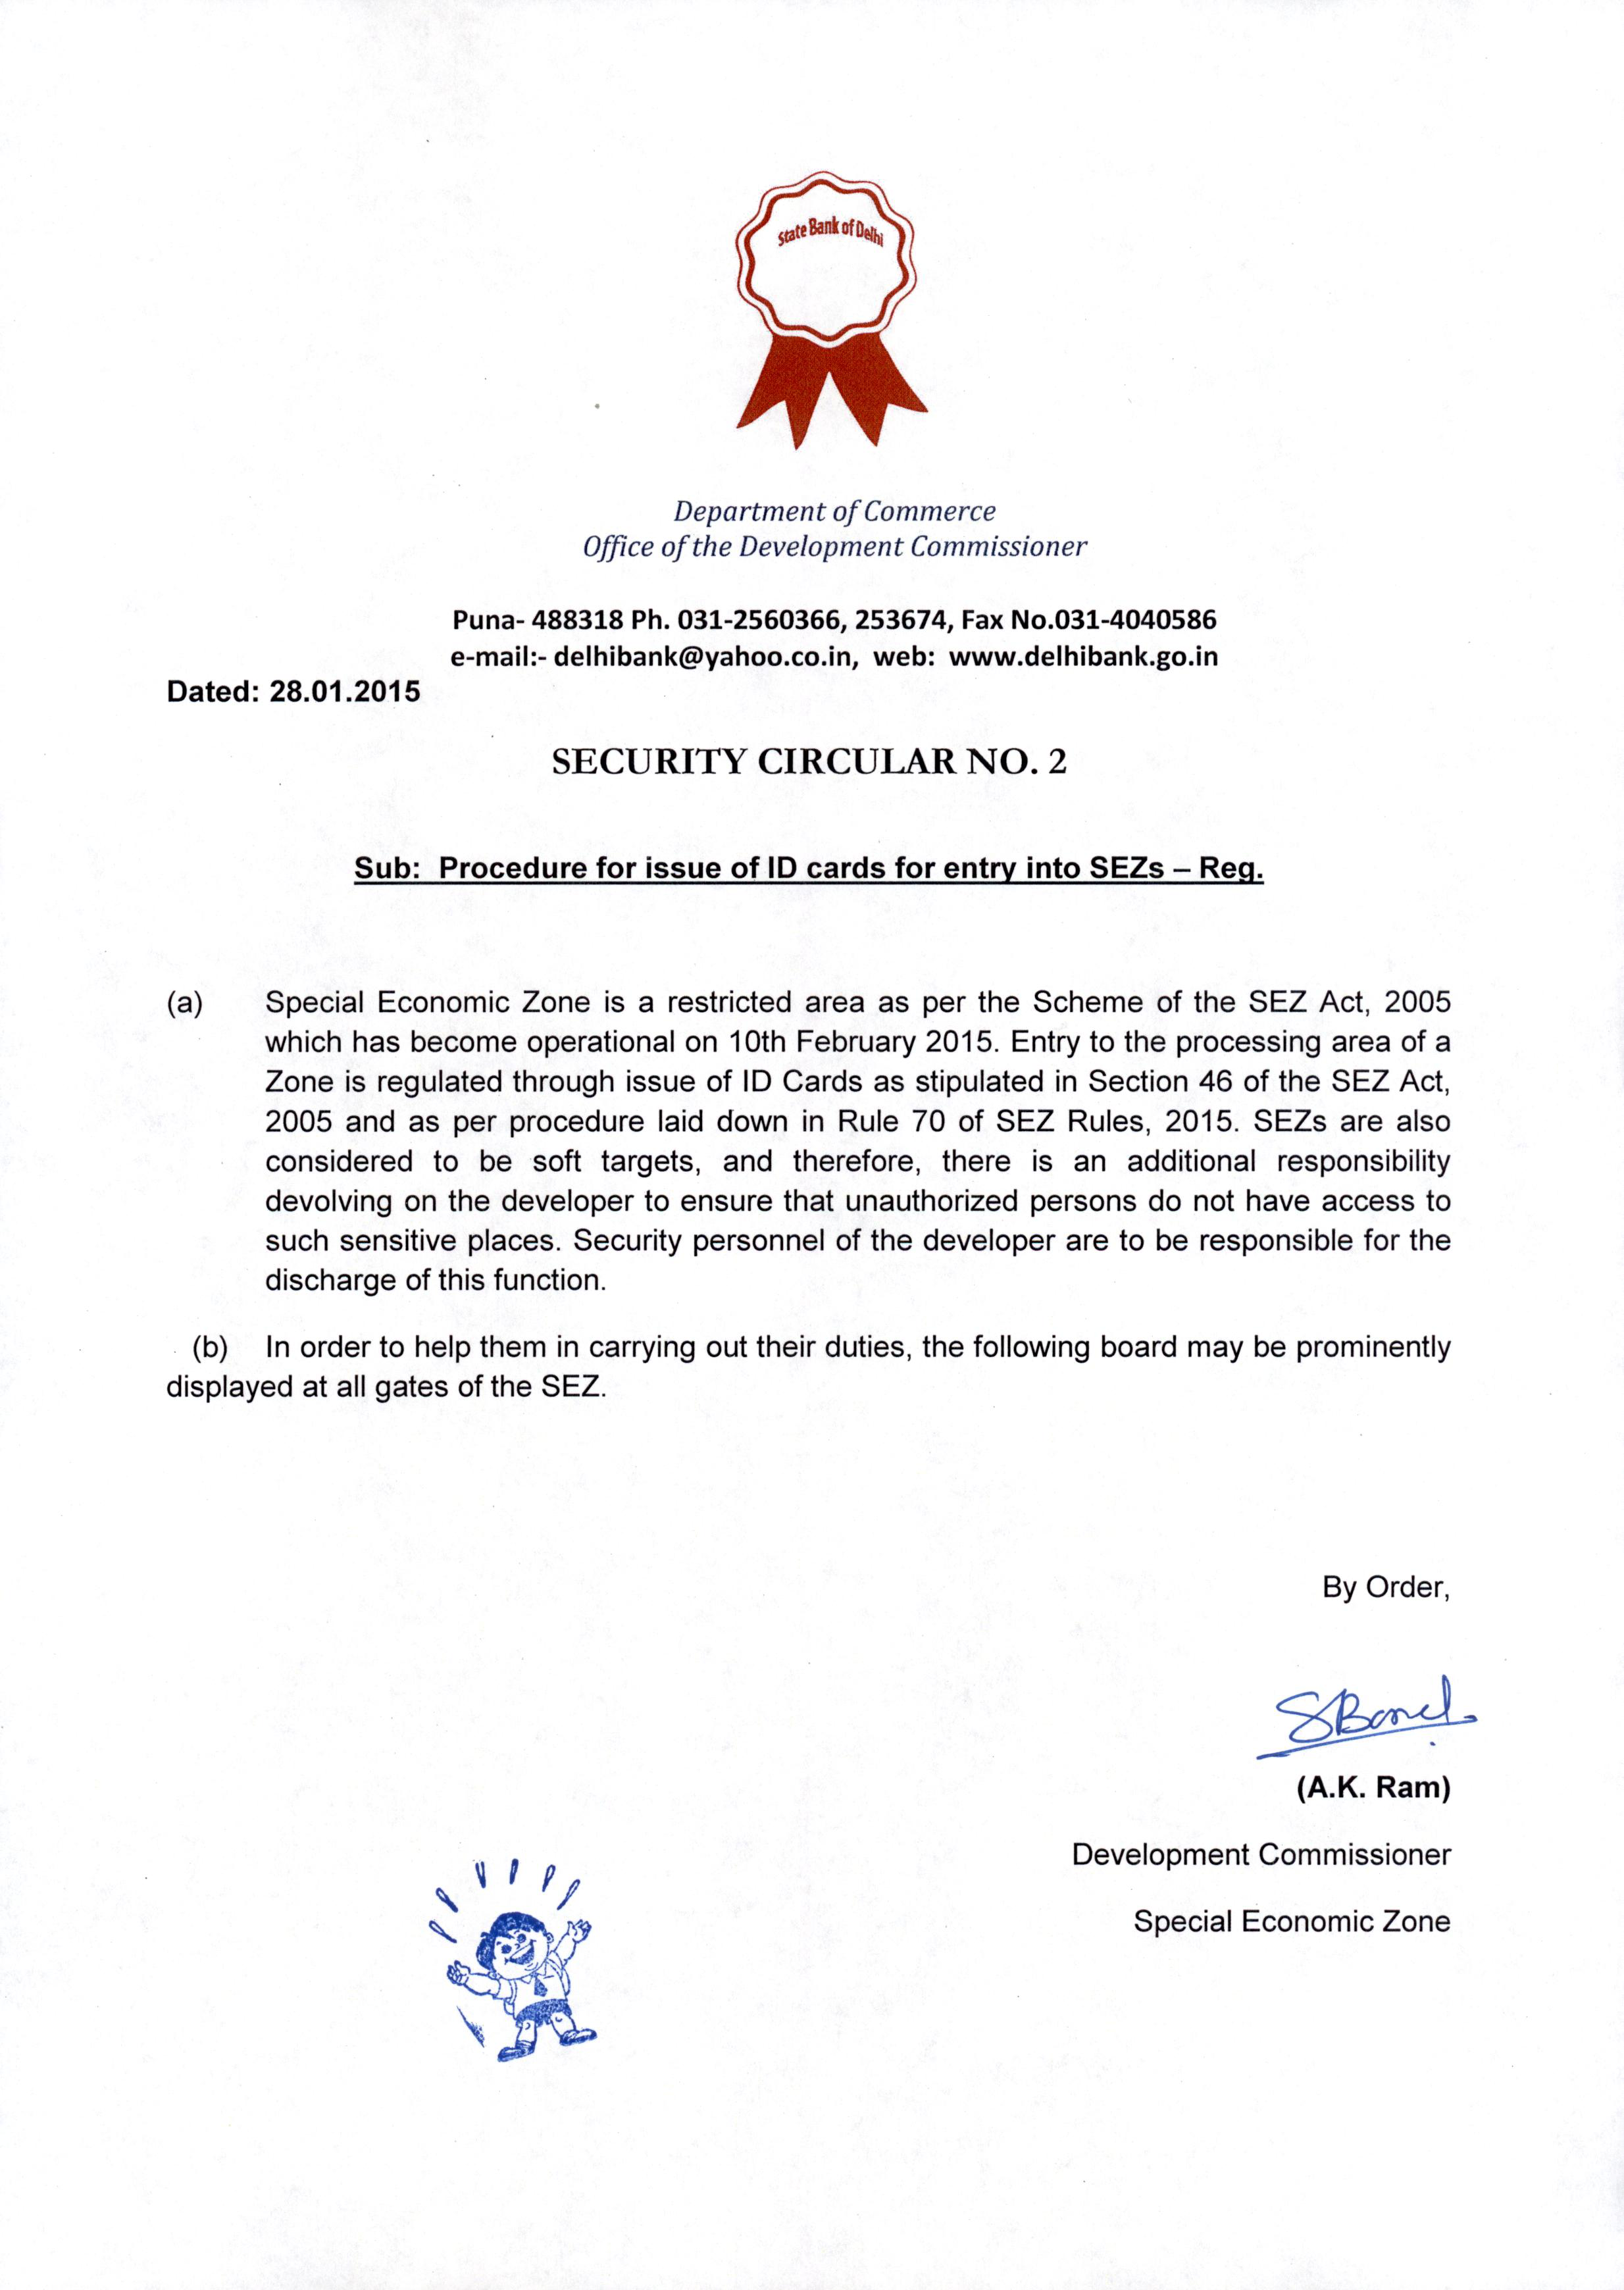Signature: (1253, 1664, 1489, 1763)
